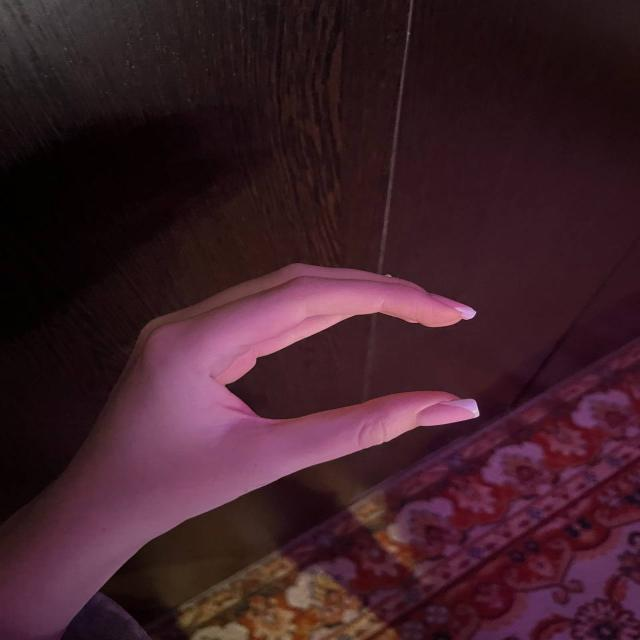s: (122, 245, 507, 535)
